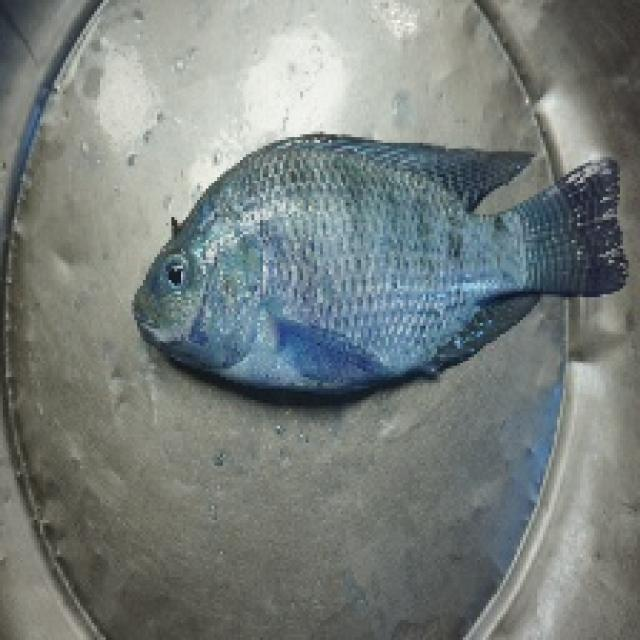Fresh: (100, 134, 640, 383)
